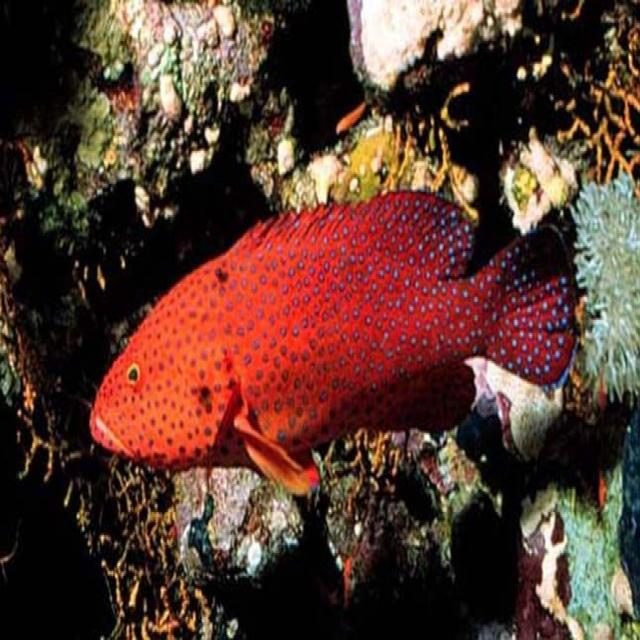ikan: (87, 187, 581, 497)
